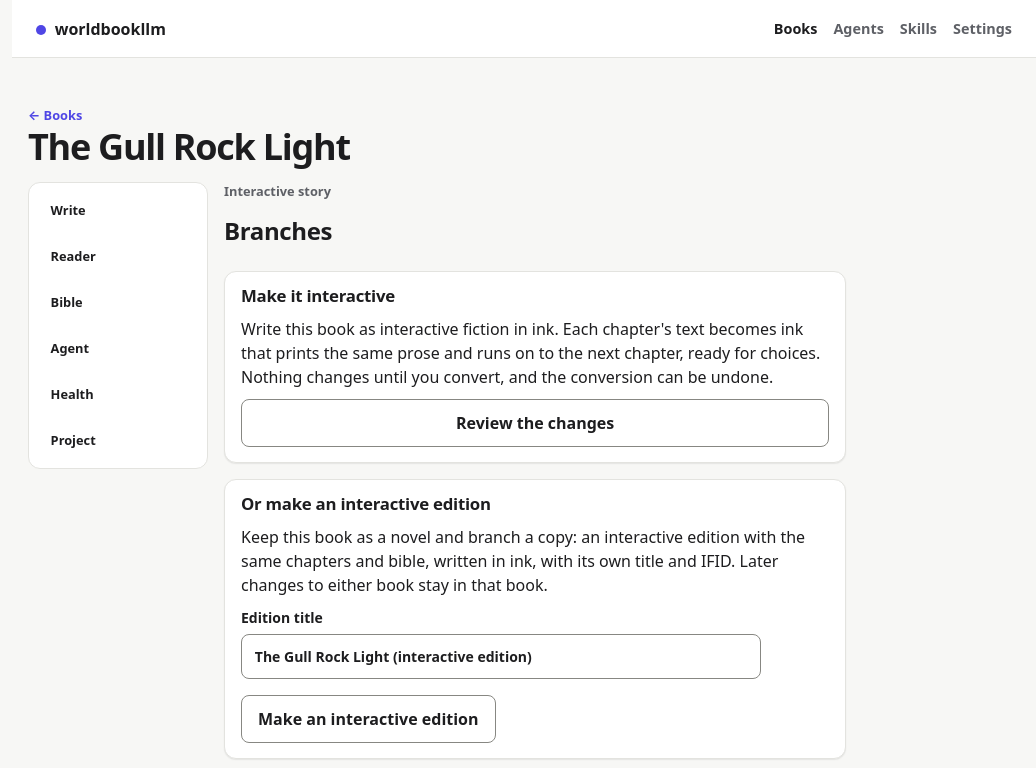
Branches tab › copies a linear book as an interactive edition and opens it
The width and height of the screenshot is (1036, 768).
Replace the text in the field labelled "Edition title" with "Gull Rock: Choices" at [501, 656], box [241,634,761,679]
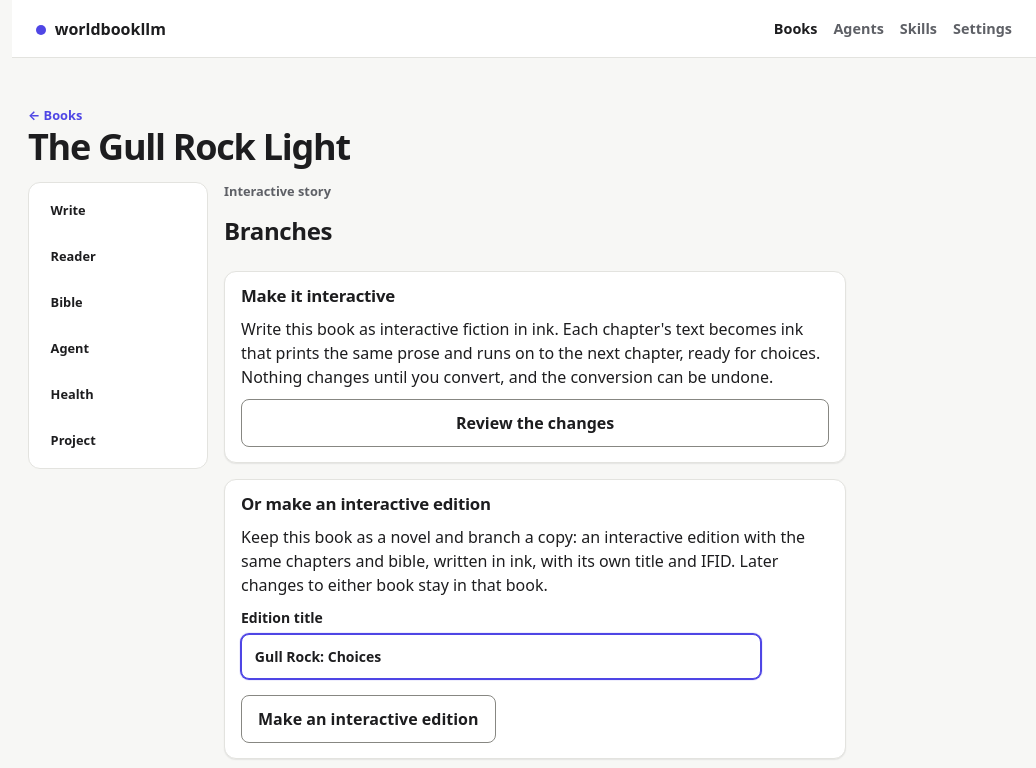
Click the button "Make an interactive edition" at [368, 719], box [241,695,496,744]
(page scrolled)
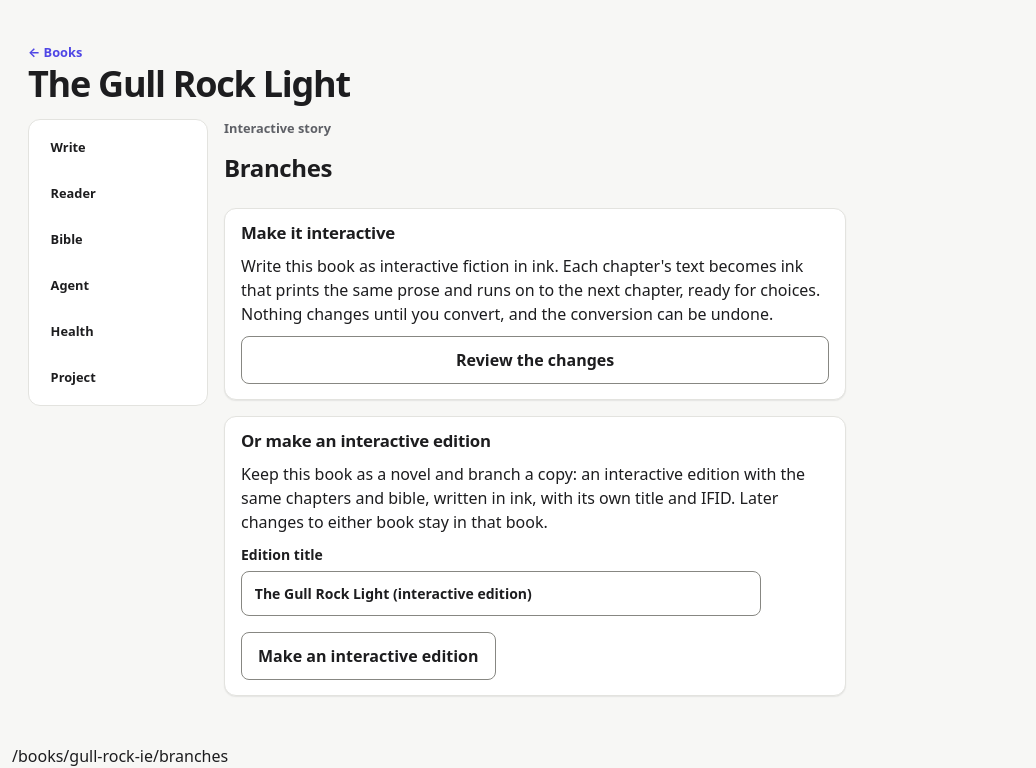
Now the text with test id "location" reads "/books/gull-rock-ie/branches", box [12,745,228,767]
